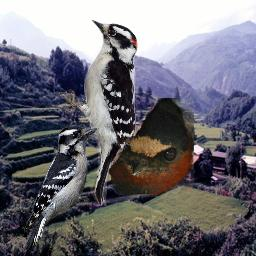Swallow: (108, 98, 194, 197)
Woodpecker: (51, 17, 140, 206), (24, 124, 99, 251)
